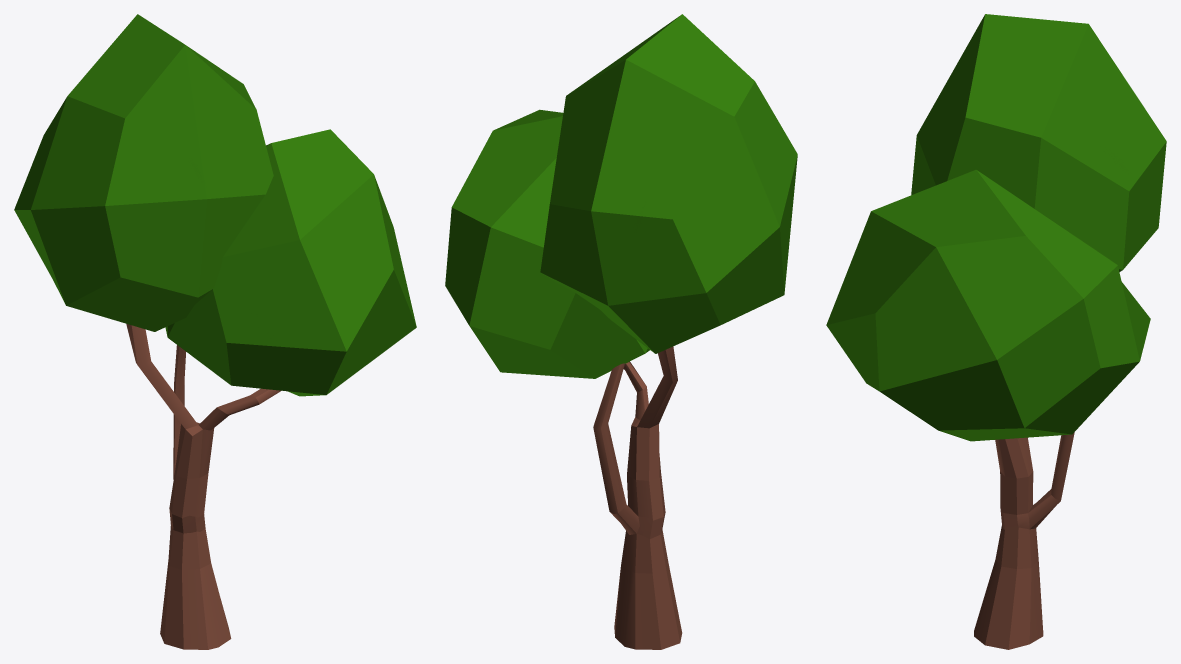
Rendered from Tree_03.fbx.
3 views of the same model, side by side, from view 1: azimuth 30°, elevation 25°; view 2: azimuth 150°, elevation 25°; view 3: azimuth 270°, elevation 25° (orthographic). The views are drawn at different scales.
Visible parts, largest first — view 1: Tree_03; view 2: Tree_03; view 3: Tree_03.
Boxes of the visible parts, <box> form: Tree_03: <box>14,14,416,649</box>; Tree_03: <box>445,14,797,649</box>; Tree_03: <box>826,14,1166,649</box>.
Size of the model in its own units: 36.34 by 61.94 by 31.39.
1 material, 1 textured.
